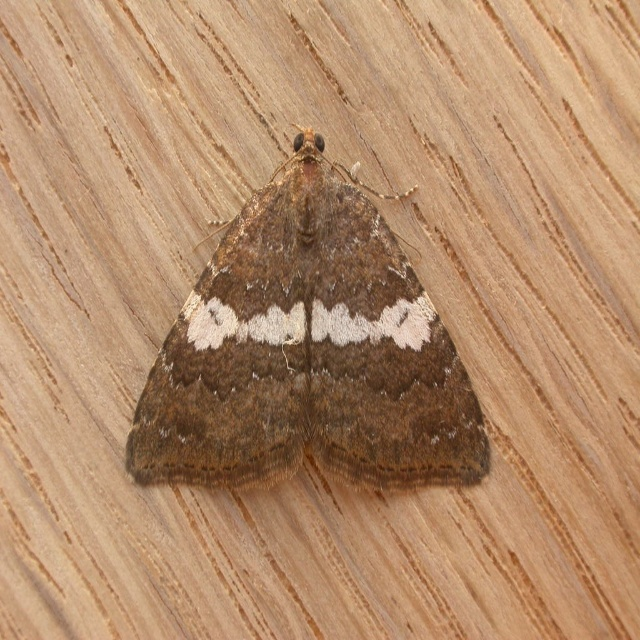Moths and butterflies: (126, 121, 494, 500)
